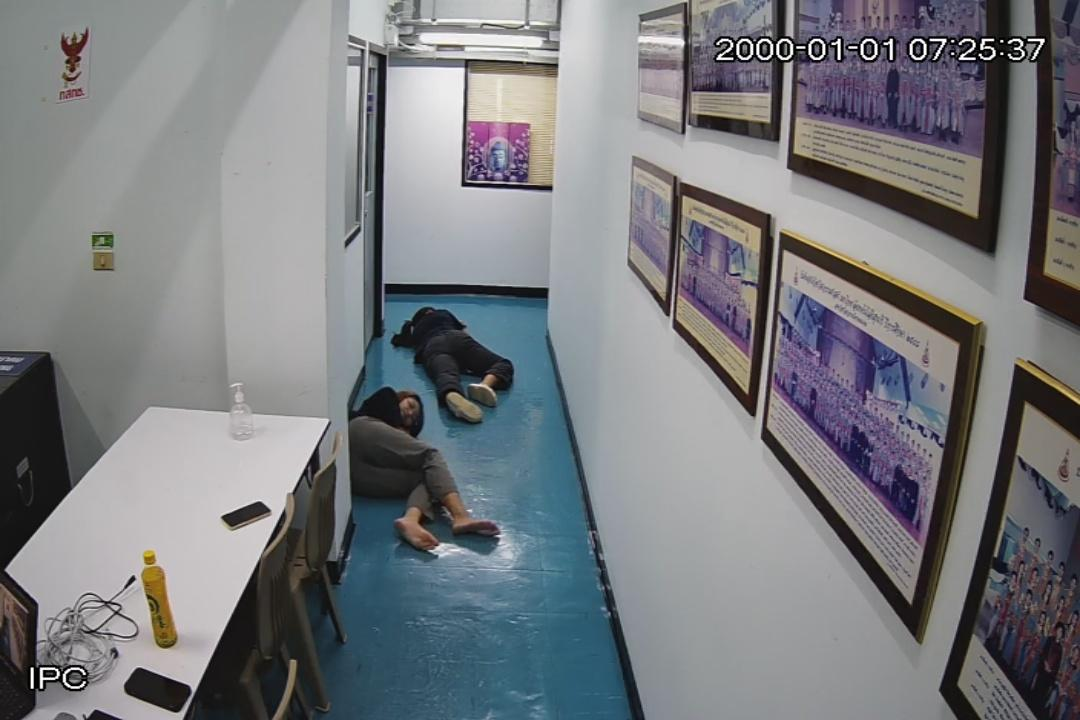fall: (346, 389, 501, 553), (408, 305, 514, 419)
